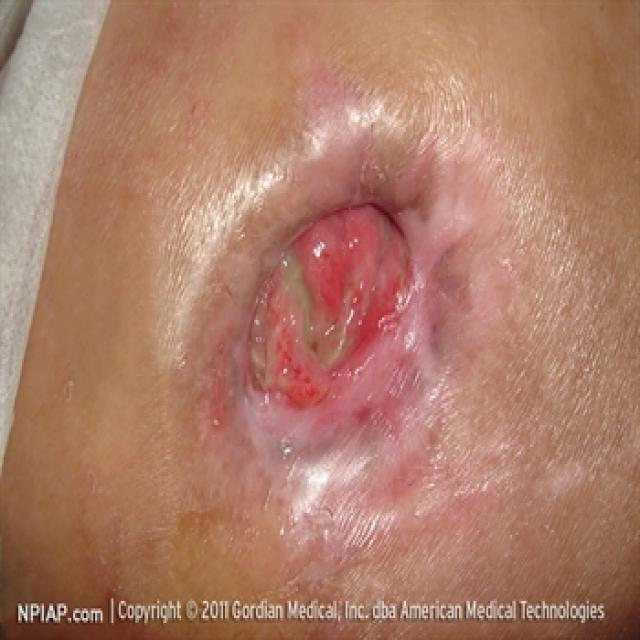stage-3: (246, 201, 410, 403)
